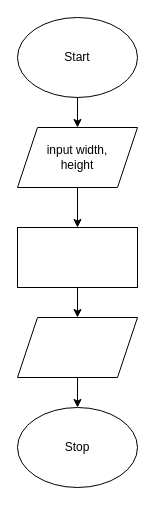
This 155x505 diagram has some shape labels left out. Here are the shapes that lost their labels. From the top down, the centre of each, then its label:
At point 77,257: "length = (width * height) / 144".
At point 77,347: "return length".
